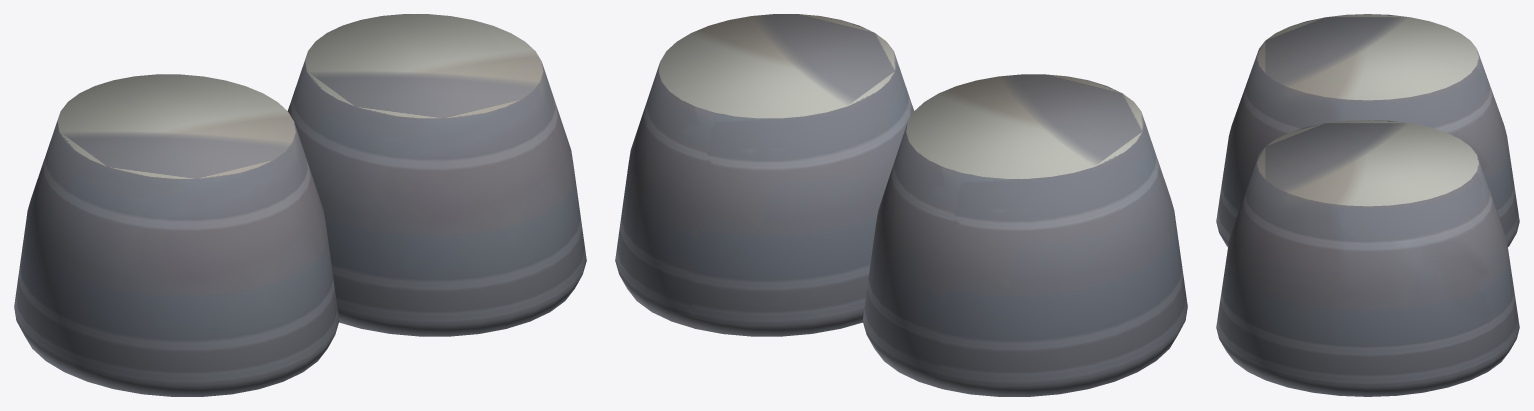
The model's file is PropulsorDuplo.fbx.
3 renders of one model, left to right at view 1: azimuth 30°, elevation 25°; view 2: azimuth 150°, elevation 25°; view 3: azimuth 270°, elevation 25°, orthographic. The views are drawn at different scales.
Visible parts, largest first — view 1: PropulsorDuplo; view 2: PropulsorDuplo; view 3: PropulsorDuplo.
Part boxes in pixels (box(x1,y1,x2,y2)): PropulsorDuplo: box(14, 14, 586, 396); PropulsorDuplo: box(615, 14, 1187, 396); PropulsorDuplo: box(1216, 14, 1519, 396).
Size of the model in its own units: 75.18 by 43.06 by 27.83.
Materials: 1 (1 with a texture image).
